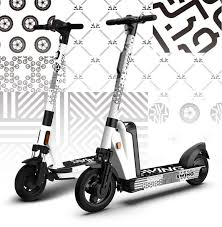kick_handler: (34, 20, 83, 44), (105, 14, 158, 35)
kick_neck: (103, 36, 135, 146), (38, 45, 65, 146)
kick_wheel: (76, 168, 115, 212), (15, 166, 46, 199), (186, 155, 209, 185)
